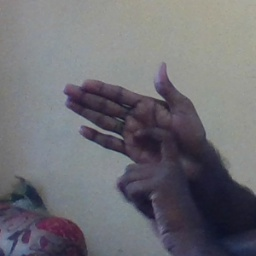R: (62, 61, 201, 205)
